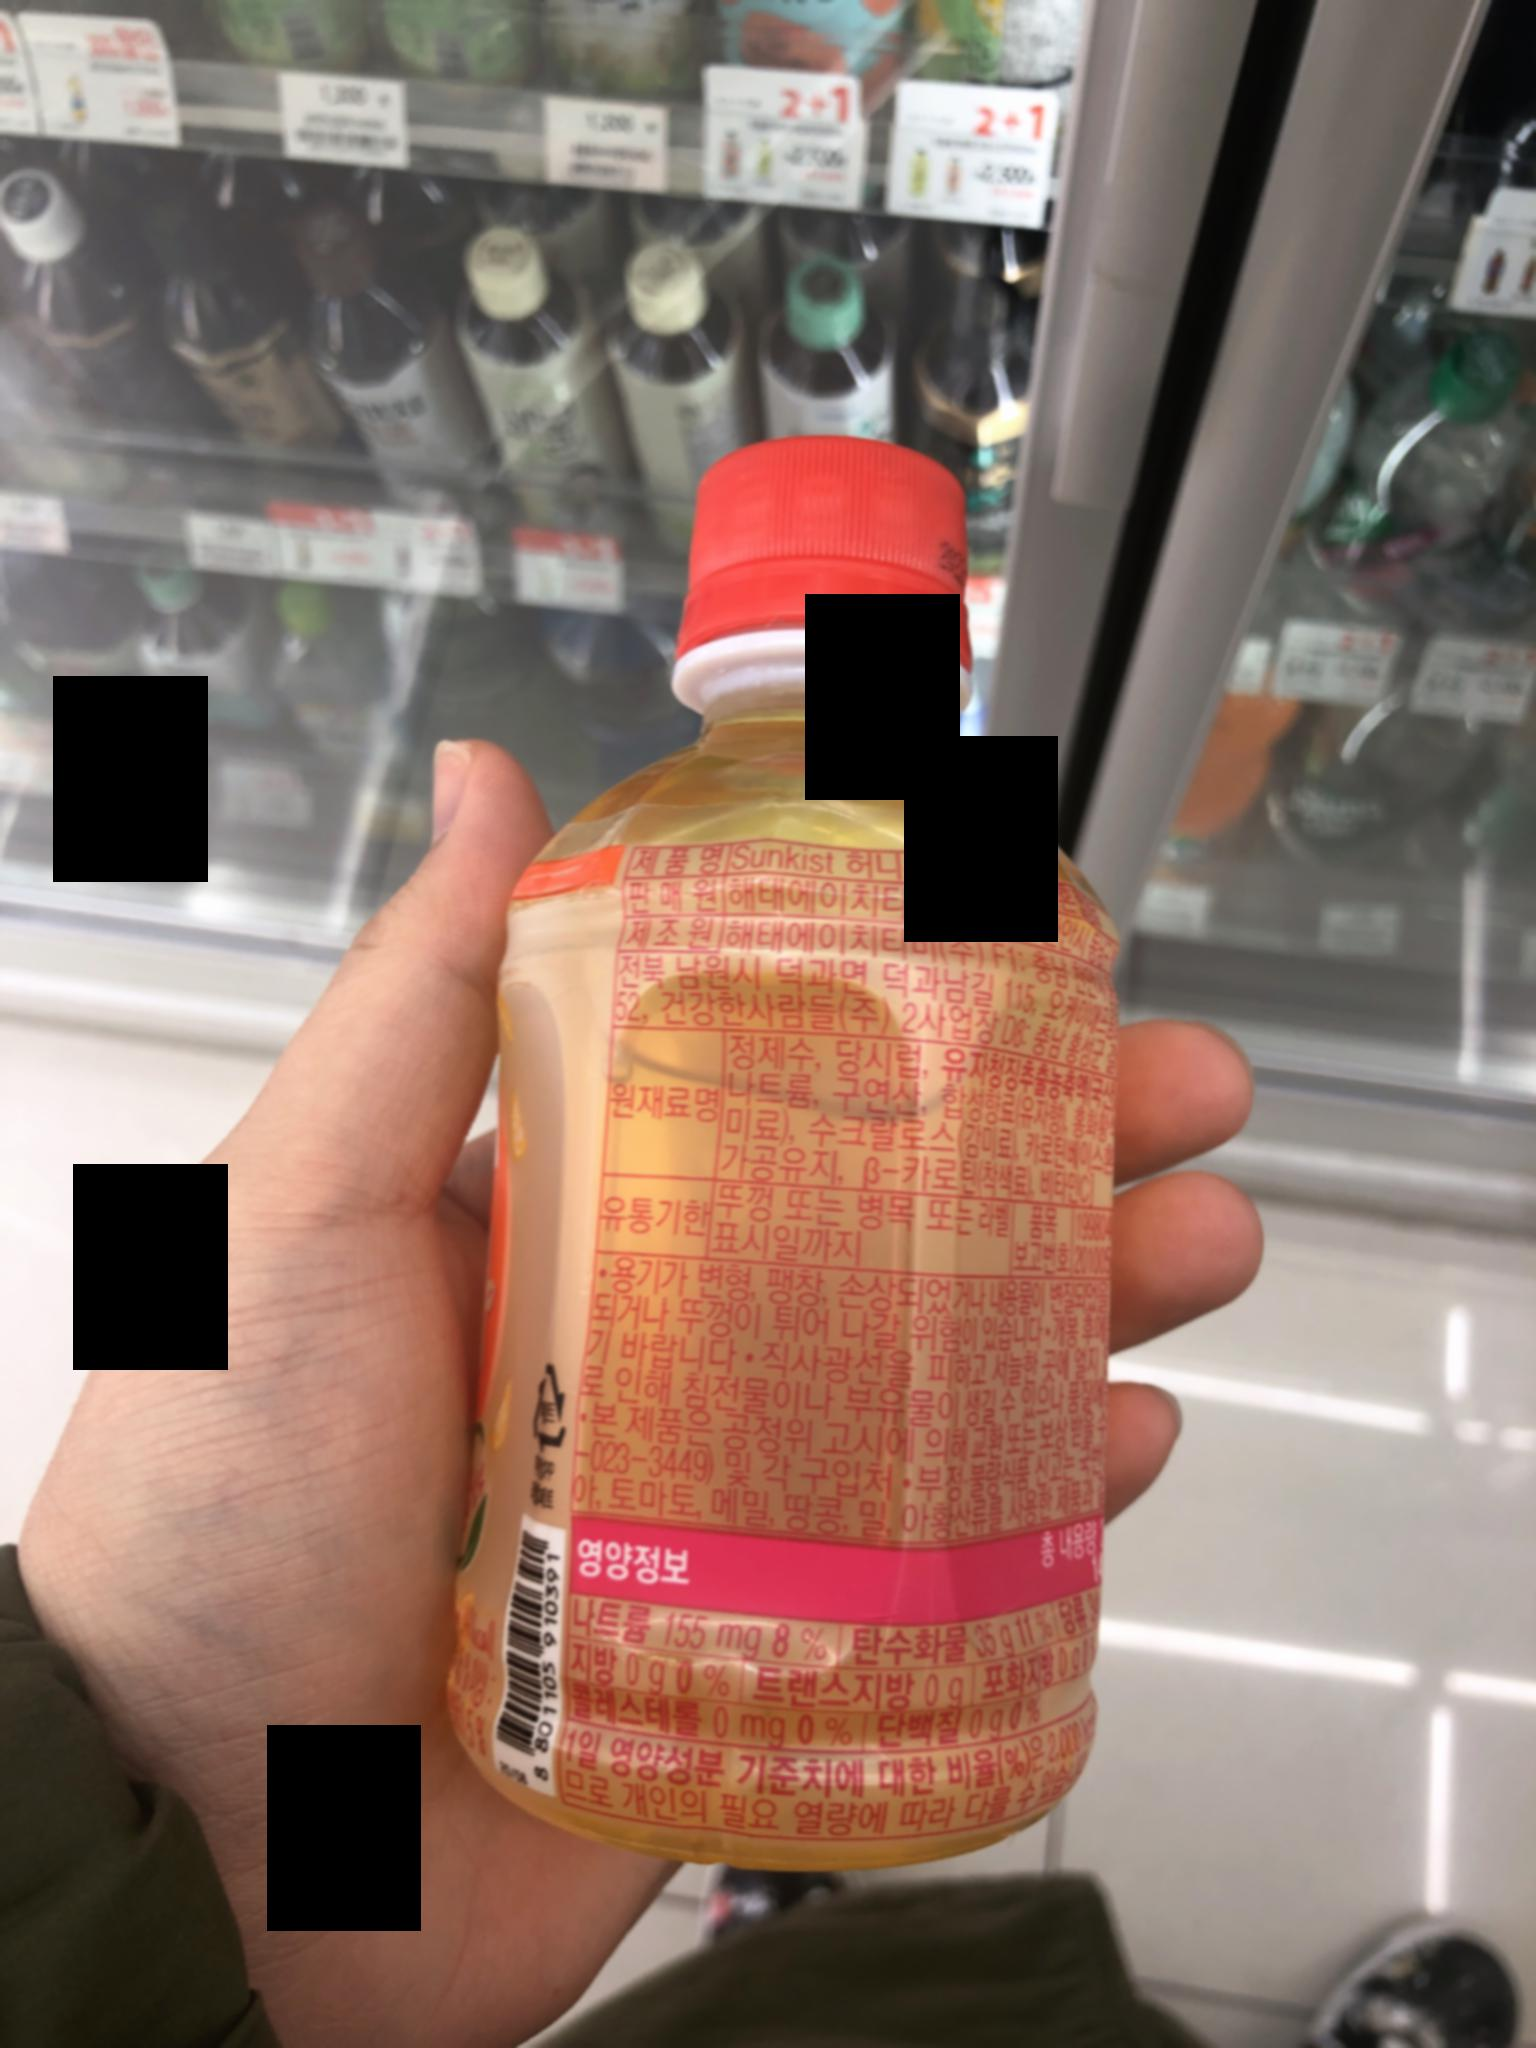honeyyuja: (471, 369, 1133, 1904)
